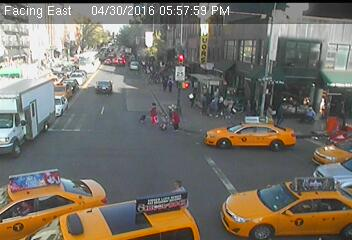neg: (36, 144, 63, 181), (35, 73, 56, 102), (225, 137, 246, 165), (111, 154, 132, 182), (273, 158, 293, 184), (286, 48, 305, 73), (219, 47, 238, 72), (123, 195, 139, 217), (84, 115, 99, 135), (95, 80, 109, 98), (300, 129, 313, 147)
pos: (168, 173, 192, 205), (146, 100, 164, 124), (169, 108, 185, 129), (276, 101, 292, 122)
